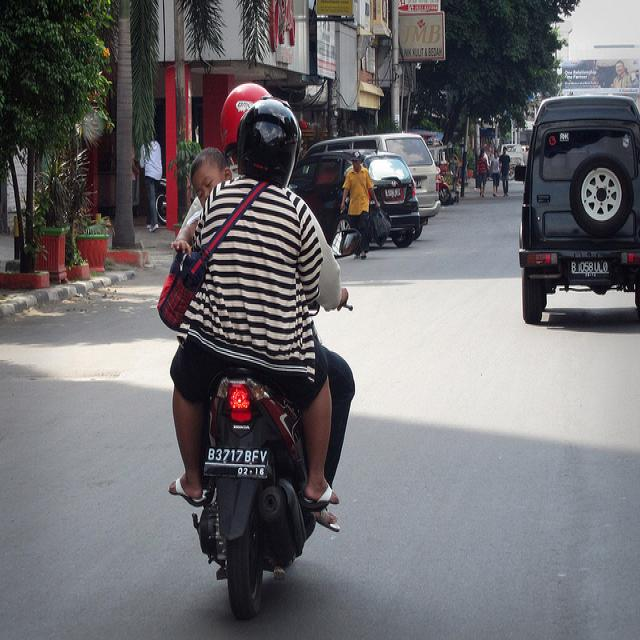motor: (186, 366, 318, 622)
